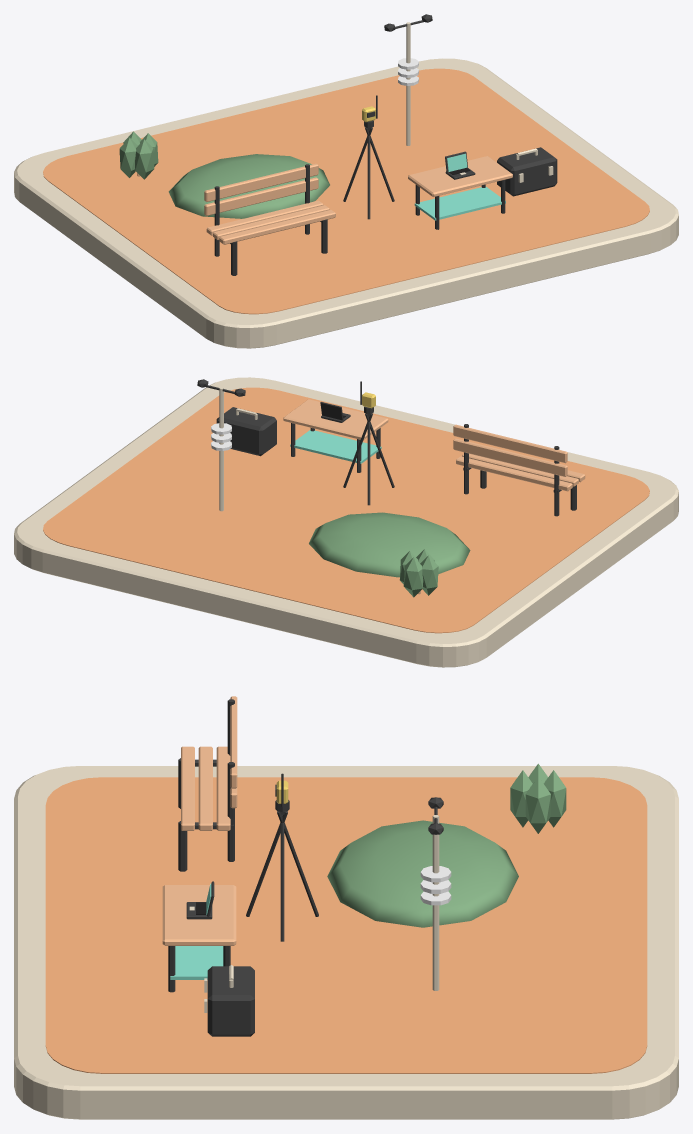
The picture shows the model from 3 angles, top to bottom: view 1: azimuth 30°, elevation 25°; view 2: azimuth 150°, elevation 25°; view 3: azimuth 270°, elevation 25°; orthographic projection. The views are drawn at different scales.
Visible parts, largest first — view 1: COM-02 Floor Surface, COM-01 Rounded Base Direct, Low terrain, Worktop, Case, Lower shelf, Back slat, Back slat.001, Seat slat, Seat slat.002, Seat slat.001, Leaf.003 (+2 smaller); view 2: COM-02 Floor Surface, COM-01 Rounded Base Direct, Low terrain, Worktop, Case, Lower shelf, Back slat, Back slat.001, Seat slat.002, Seat slat.001, Leaf.001, Mast (+1 smaller); view 3: COM-02 Floor Surface, COM-01 Rounded Base Direct, Low terrain, Worktop, Case, Lower shelf, Seat slat.001, Seat slat, Mast, Seat slat.002, Leaf, Leaf.001 (+2 smaller).
Boxes of the visible parts, x1,y1,x2,y2 form: COM-02 Floor Surface: (43,68,649,314); COM-01 Rounded Base Direct: (14,58,678,348); Low terrain: (168,154,329,218); Worktop: (408,156,512,196); Case: (497,147,557,196); Lower shelf: (414,186,505,220); Back slat: (204,177,318,215); Back slat.001: (204,163,318,201); Seat slat: (219,210,335,244); Seat slat.002: (206,200,323,235); Seat slat.001: (213,205,329,239); Leaf.003: (135,139,154,179); COM-02 Floor Surface: (43,387,649,633); COM-01 Rounded Base Direct: (14,377,678,667); Low terrain: (309,512,470,577); Worktop: (283,399,388,439); Case: (216,407,276,456); Lower shelf: (290,430,381,463); Back slat: (453,438,567,476); Back slat.001: (453,424,567,463); Seat slat.002: (456,456,572,491); Seat slat.001: (462,453,578,486); Leaf.001: (403,557,423,597); Mast: (219,387,223,511); COM-02 Floor Surface: (45,777,647,1073); COM-01 Rounded Base Direct: (14,766,678,1119); Low terrain: (327,820,518,927); Worktop: (162,885,236,945); Case: (207,966,254,1036); Lower shelf: (170,946,223,979); Seat slat.001: (198,746,212,830); Seat slat: (181,746,194,830); Mast: (432,815,439,990); Seat slat.002: (216,746,230,830); Leaf: (525,776,550,833); Leaf.001: (544,770,566,827).
Bounding box in the file's own units: 6 × 1.85 × 5.2.
Materials: 1 (1 with a texture image).
